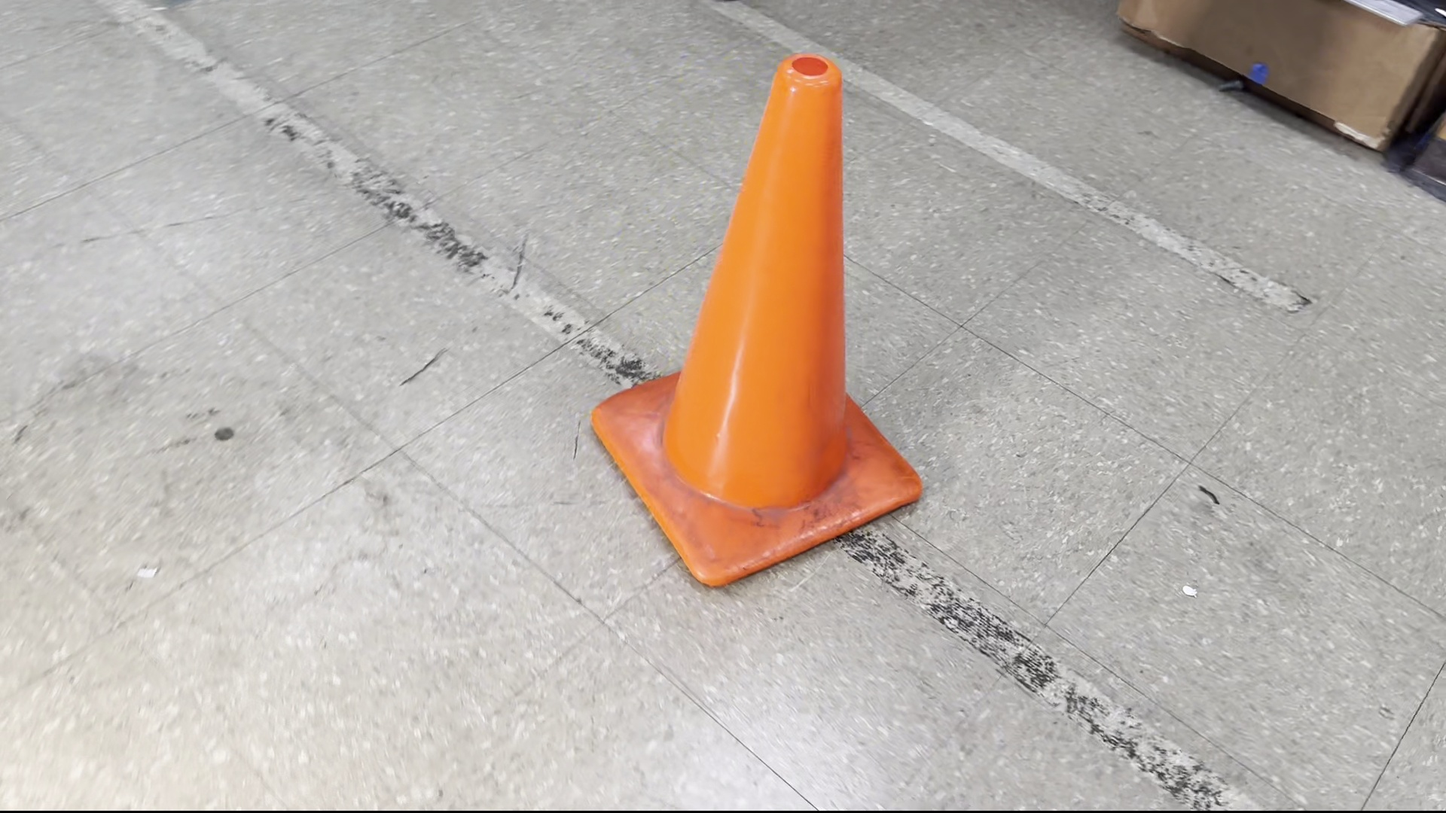traffic_cone: (589, 52, 923, 589)
